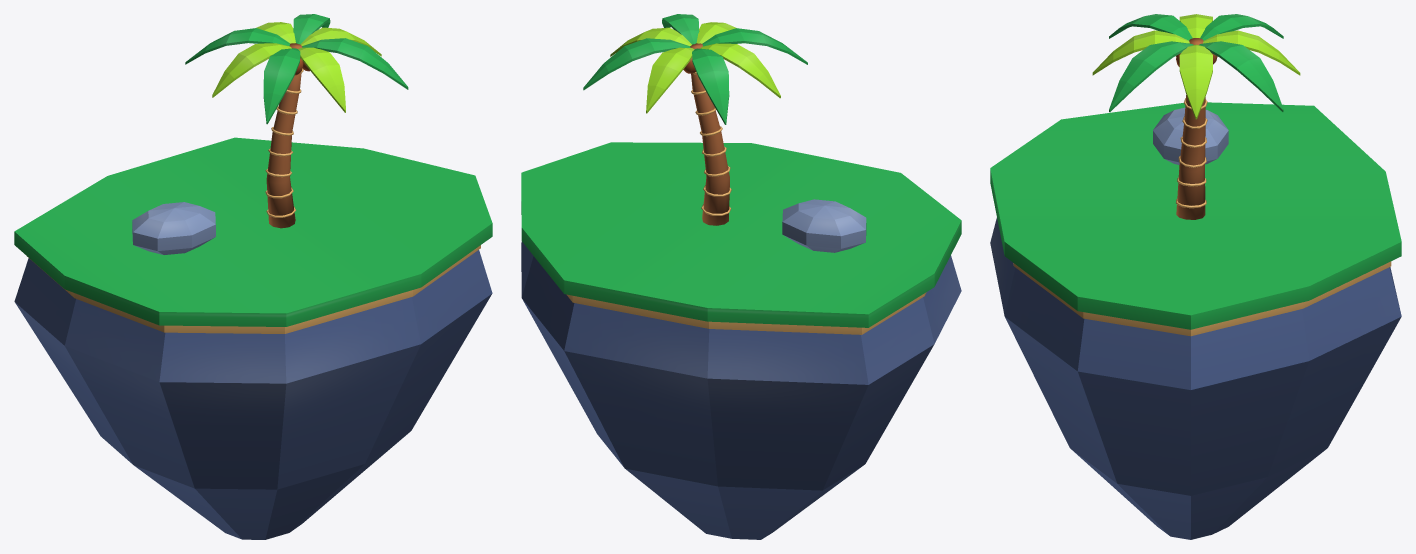
The model's file is FloatingIsletA.fbx.
3 renders of one model, left to right at view 1: azimuth 30°, elevation 25°; view 2: azimuth 150°, elevation 25°; view 3: azimuth 270°, elevation 25°, orthographic. The views are drawn at different scales.
Visible parts, largest first — view 1: FloatingIsletA; view 2: FloatingIsletA; view 3: FloatingIsletA.
Boxes of the visible parts, bbox=[...] form: FloatingIsletA: bbox=[14, 14, 492, 539]; FloatingIsletA: bbox=[521, 14, 961, 539]; FloatingIsletA: bbox=[990, 14, 1401, 539].
Bounding box in the file's own units: 18.97 × 21.03 × 15.45.
1 material, 1 textured.
